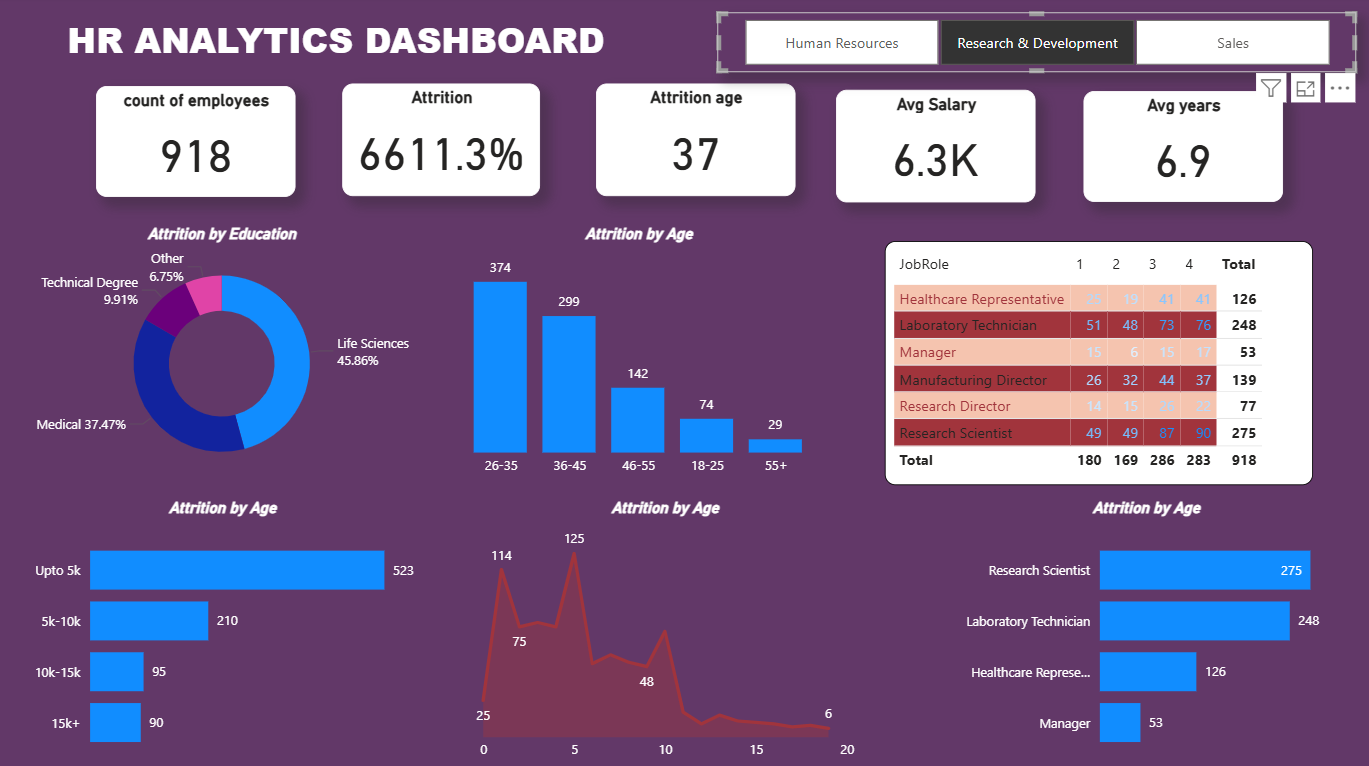

The page's visual inventory and layout, read from the dashboard file:
{"tool":"powerbi","page":{"name":"Page 1","canvas":[1280,720],"ordinal":0},"visuals":[{"type":"card","title":"count of employees","fields":{"Values":["CountNonNull(HR_Analytics.EmpID)"]},"box":[93.3,83.2,185.4,103.4],"z":0},{"type":"card","title":"Attrition","fields":{"Values":["HR_Analytics.AttritionCountt"]},"box":[321.6,82,184.1,104.7],"z":1000},{"type":"card","title":"Attrition age","fields":{"Values":["Avg(HR_Analytics.Age)"]},"box":[558.7,82,185.4,104.7],"z":2000},{"type":"card","title":"Avg Salary","fields":{"Values":["Avg(HR_Analytics.MonthlyIncome)"]},"box":[781.9,87,185.4,104.7],"z":3000},{"type":"card","title":"Avg years","fields":{"Values":["Avg(HR_Analytics.YearsAtCompany)"]},"box":[1011.4,88.3,185.4,103.4],"z":4000},{"type":"donutChart","title":"Attrition by Education","fields":{"Category":["HR_Analytics.EducationField"],"Y":["CountNonNull(HR_Analytics.AttritionCount)"]},"box":[12.6,213.1,394.7,242.1],"z":5000},{"type":"columnChart","title":"Attrition by Age","fields":{"Category":["HR_Analytics.AgeGroup"],"Y":["CountNonNull(HR_Analytics.AttritionCount)"]},"box":[413.6,213.1,368.2,242.1],"z":6000},{"type":"pivotTable","fields":{"Rows":["HR_Analytics.JobRole"],"Columns":["HR_Analytics.JobSatisfaction"],"Values":["Sum(HR_Analytics.EmployeeCount)"]},"box":[827.3,228.3,398.5,227],"z":7000},{"type":"barChart","title":"Attrition by Age","fields":{"Category":["HR_Analytics.SalarySlab"],"Y":["CountNonNull(HR_Analytics.AttritionCount)"]},"box":[26.5,467.9,368.2,252.2],"z":8000},{"type":"barChart","title":"Attrition by Age","fields":{"Category":["HR_Analytics.JobRole"],"Y":["CountNonNull(HR_Analytics.AttritionCount)"]},"box":[886.5,467.9,368.2,252.2],"z":9000},{"type":"areaChart","title":"Attrition by Age","fields":{"Category":["HR_Analytics.YearsAtCompany"],"Y":["CountNonNull(HR_Analytics.AttritionCount)"]},"box":[438.9,467.9,368.2,252.2],"z":10000},{"type":"slicer","fields":{"Values":["HR_Analytics.Department"]},"box":[670.9,15.1,594,55.5],"z":10001},{"type":"textbox","box":[61.8,12.6,536,69.4],"z":10002}]}

Visuals, with their boxes in screenshot pixels (x1, y1, x2, y2), scaled from the page's 1280x720 canvas onto the 1369x766 screenshot:
"count of employees" card: select_region(100, 89, 298, 199)
"Attrition" card: select_region(344, 87, 541, 199)
"Attrition age" card: select_region(598, 87, 796, 199)
"Avg Salary" card: select_region(836, 93, 1035, 204)
"Avg years" card: select_region(1082, 94, 1280, 204)
"Attrition by Education" donutChart: select_region(13, 227, 436, 484)
"Attrition by Age" columnChart: select_region(442, 227, 836, 484)
pivotTable - HR_Analytics.JobRole x HR_Analytics.JobSatisfaction: select_region(885, 243, 1311, 484)
"Attrition by Age" barChart: select_region(28, 498, 422, 765)
"Attrition by Age" barChart: select_region(948, 498, 1342, 765)
"Attrition by Age" areaChart: select_region(469, 498, 863, 765)
slicer - HR_Analytics.Department: select_region(718, 16, 1353, 75)
textbox: select_region(66, 13, 639, 87)
